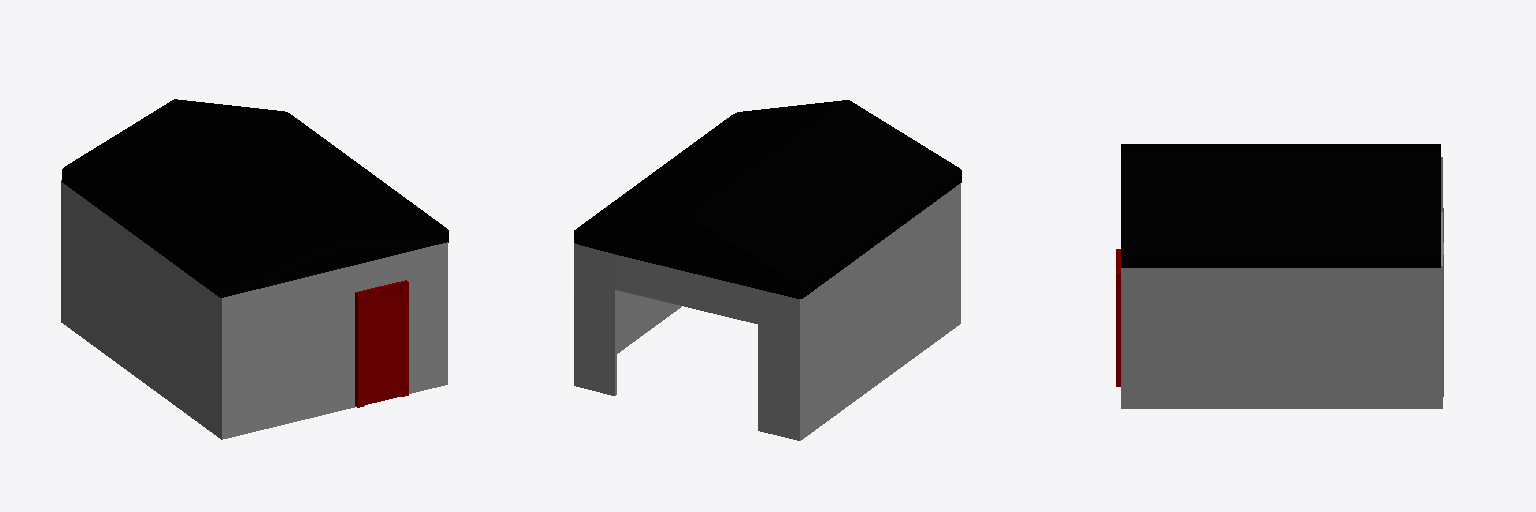
The model's file is Storage_Shed_Open.obj.
3 renders of one model, left to right at view 1: azimuth 30°, elevation 25°; view 2: azimuth 150°, elevation 25°; view 3: azimuth 270°, elevation 25°, orthographic.
Visible parts, largest first — view 1: tool_shop001, small_roof001, Door_single003; view 2: small_roof001, tool_shop001; view 3: tool_shop001, small_roof001, Door_single003.
Part boxes in pixels (bbox=[...]): tool_shop001: bbox=[61, 180, 447, 439]; small_roof001: bbox=[62, 99, 448, 297]; Door_single003: bbox=[355, 280, 408, 407]; small_roof001: bbox=[574, 100, 961, 298]; tool_shop001: bbox=[574, 183, 960, 440]; tool_shop001: bbox=[1121, 157, 1443, 408]; small_roof001: bbox=[1121, 144, 1440, 267]; Door_single003: bbox=[1116, 249, 1120, 386].
Size of the model in its own units: 4.54 by 3.74 by 5.64.